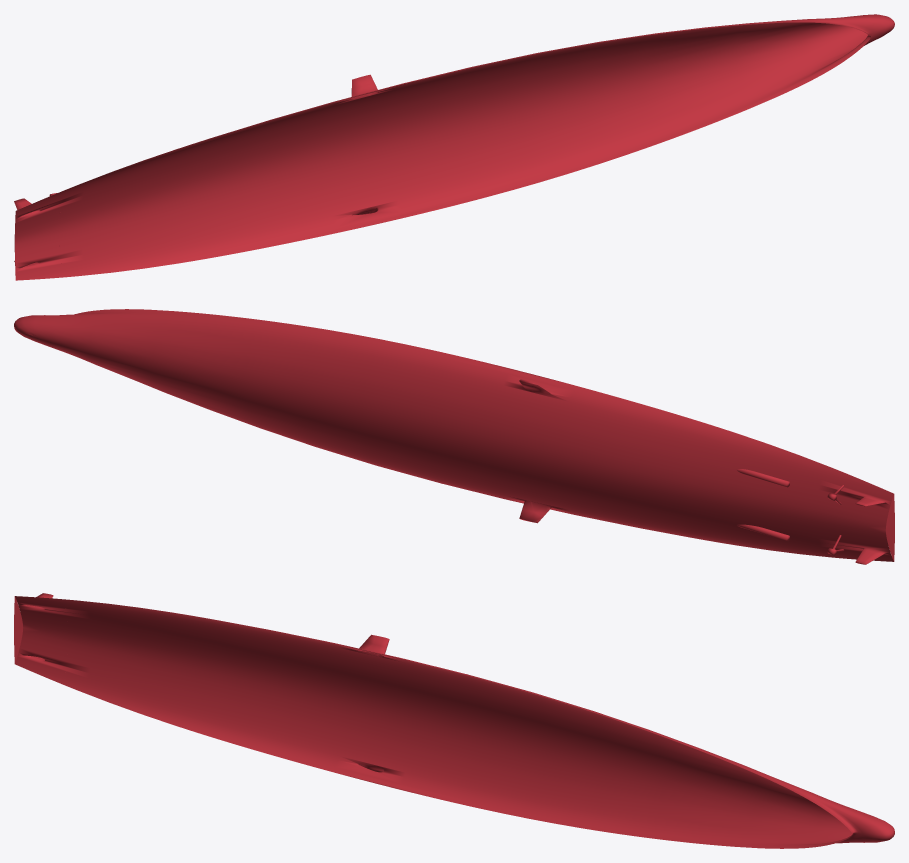
Rendered from hull_red.glb.
3 renders of one model, top to bottom at view 1: azimuth 30°, elevation 25°; view 2: azimuth 150°, elevation 25°; view 3: azimuth 330°, elevation 25°, orthographic. The views are drawn at different scales.
Visible parts, largest first — view 1: hull_red.obj; view 2: hull_red.obj; view 3: hull_red.obj.
Boxes of the visible parts, x1=… form: hull_red.obj: x1=14, y1=14, x2=894, y2=280; hull_red.obj: x1=14, y1=309, x2=894, y2=564; hull_red.obj: x1=14, y1=593, x2=894, y2=848.
Size of the model in its own units: 94.99 by 14.7 by 3.49.
